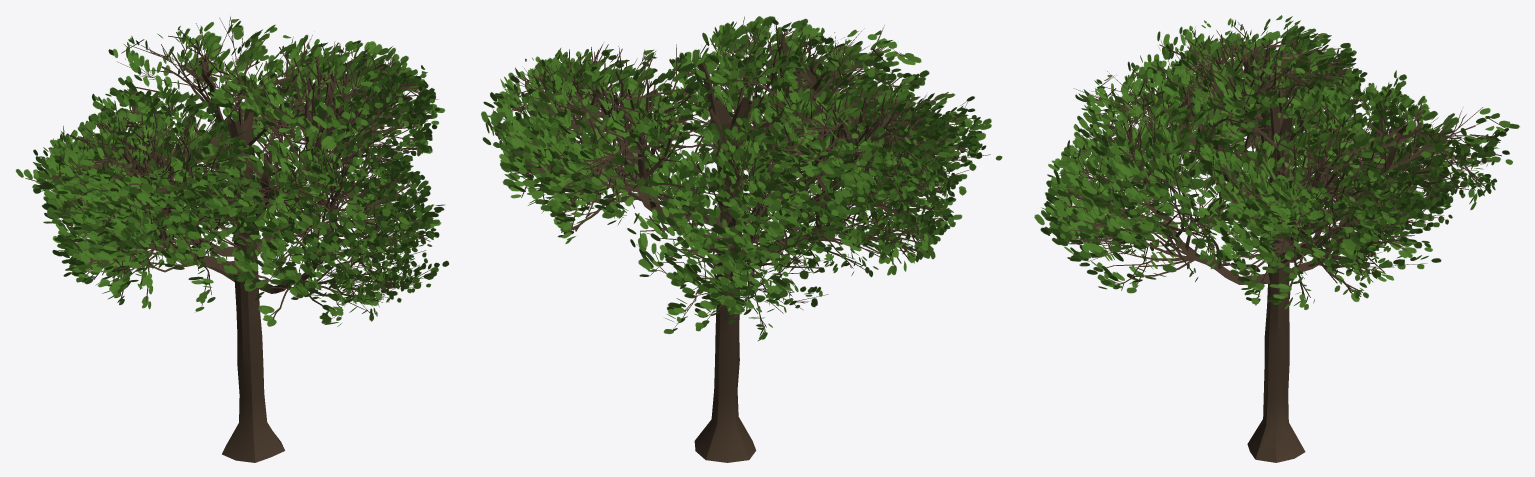
3 views of the same model, side by side, from view 1: azimuth 30°, elevation 25°; view 2: azimuth 150°, elevation 25°; view 3: azimuth 270°, elevation 25° (orthographic). The views are drawn at different scales.
Parts seen in each view (by area): view 1: oak 01.001_trunk_Mat.001_0.082; view 2: oak 01.001_trunk_Mat.001_0.082; view 3: oak 01.001_trunk_Mat.001_0.082.
Part boxes in pixels (bbox=[...]): oak 01.001_trunk_Mat.001_0.082: bbox=[16, 16, 449, 462]; oak 01.001_trunk_Mat.001_0.082: bbox=[481, 16, 1002, 462]; oak 01.001_trunk_Mat.001_0.082: bbox=[1034, 15, 1519, 462].
Bounding box in the file's own units: 4.37 × 3.6 × 4.52.
2 materials, 1 textured.
